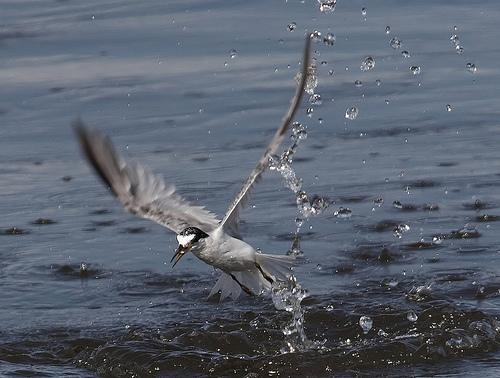bird: (70, 35, 328, 300)
